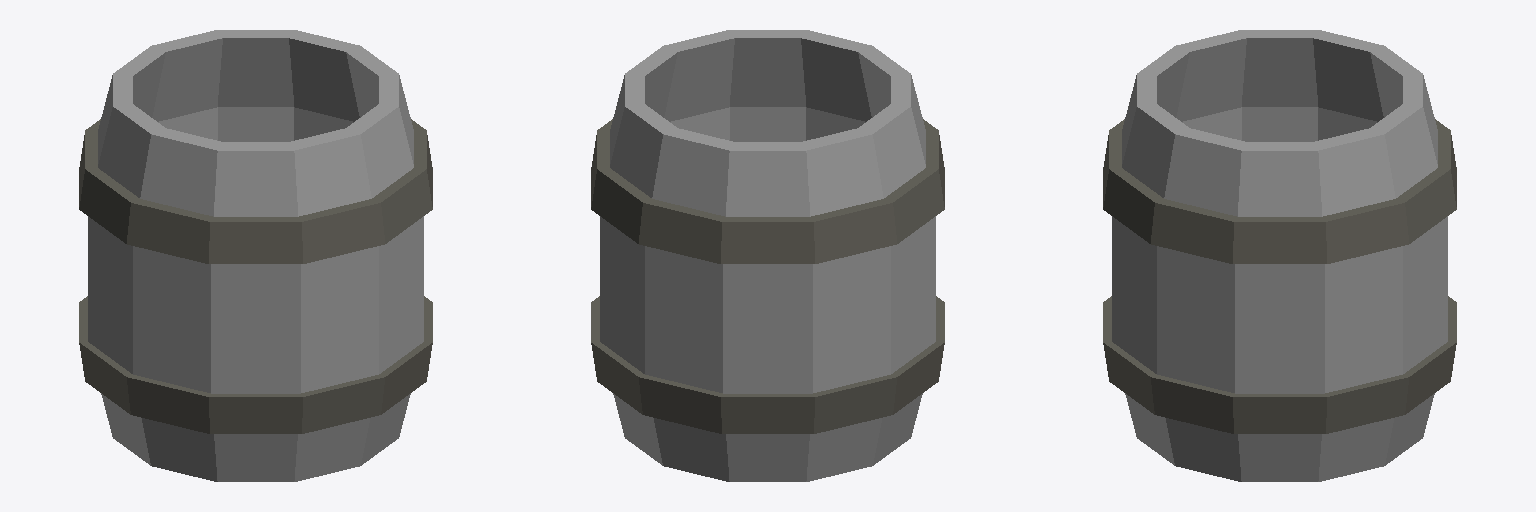
The model's file is OpenBarrel.obj.
The picture shows the model from 3 angles: view 1: azimuth 30°, elevation 25°; view 2: azimuth 150°, elevation 25°; view 3: azimuth 270°, elevation 25°; orthographic projection.
Bounding box in the file's own units: 0.483 × 0.5 × 0.483.